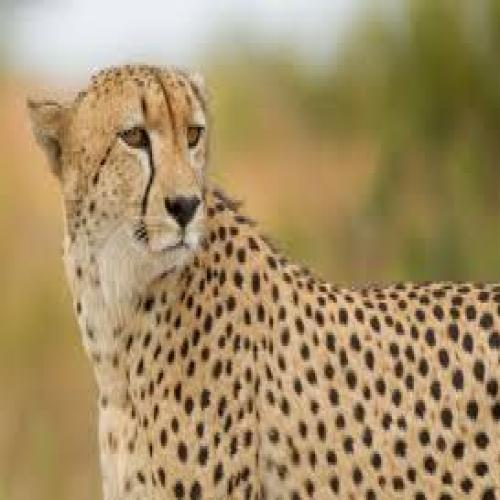cheetah-endangered: (44, 61, 500, 496)
